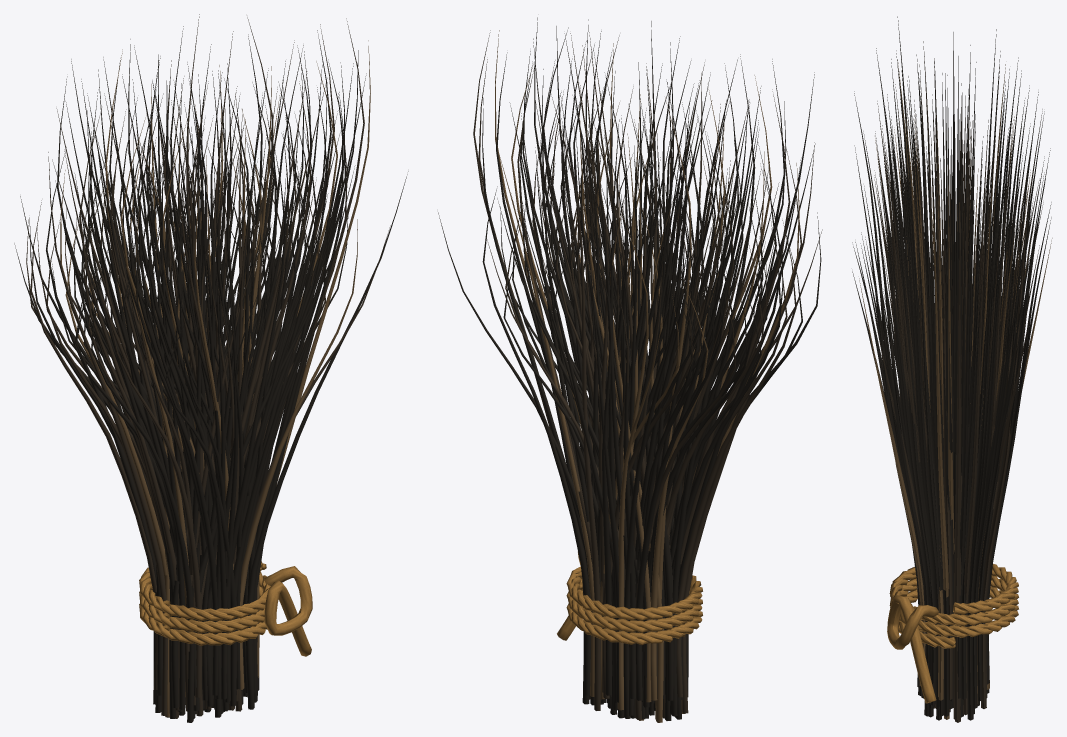
File: boar_bristle.glb
The picture shows the model from 3 angles, left to right: view 1: azimuth 30°, elevation 25°; view 2: azimuth 150°, elevation 25°; view 3: azimuth 270°, elevation 25°; orthographic projection. The views are drawn at different scales.
Visible parts, largest first — view 1: Black boar guard hair, Brown black boar hair, Sun worn brown hair edges, Rough flax binding; view 2: Black boar guard hair, Brown black boar hair, Sun worn brown hair edges, Rough flax binding; view 3: Black boar guard hair, Brown black boar hair, Sun worn brown hair edges, Rough flax binding.
Boxes of the visible parts, <box> form: Black boar guard hair: <box>14,26,408,722</box>; Brown black boar hair: <box>26,14,390,718</box>; Sun worn brown hair edges: <box>60,40,370,716</box>; Rough flax binding: <box>139,561,312,656</box>; Black boar guard hair: <box>438,17,821,720</box>; Brown black boar hair: <box>473,30,822,719</box>; Sun worn brown hair edges: <box>495,30,799,722</box>; Rough flax binding: <box>557,552,702,645</box>; Black boar guard hair: <box>852,16,1051,720</box>; Brown black boar hair: <box>874,41,1043,722</box>; Sun worn brown hair edges: <box>859,60,1052,719</box>; Rough flax binding: <box>887,564,1018,703</box>.
Size of the model in its own units: 0.1256 by 0.2348 by 0.0685.
4 materials, 1 textured.
